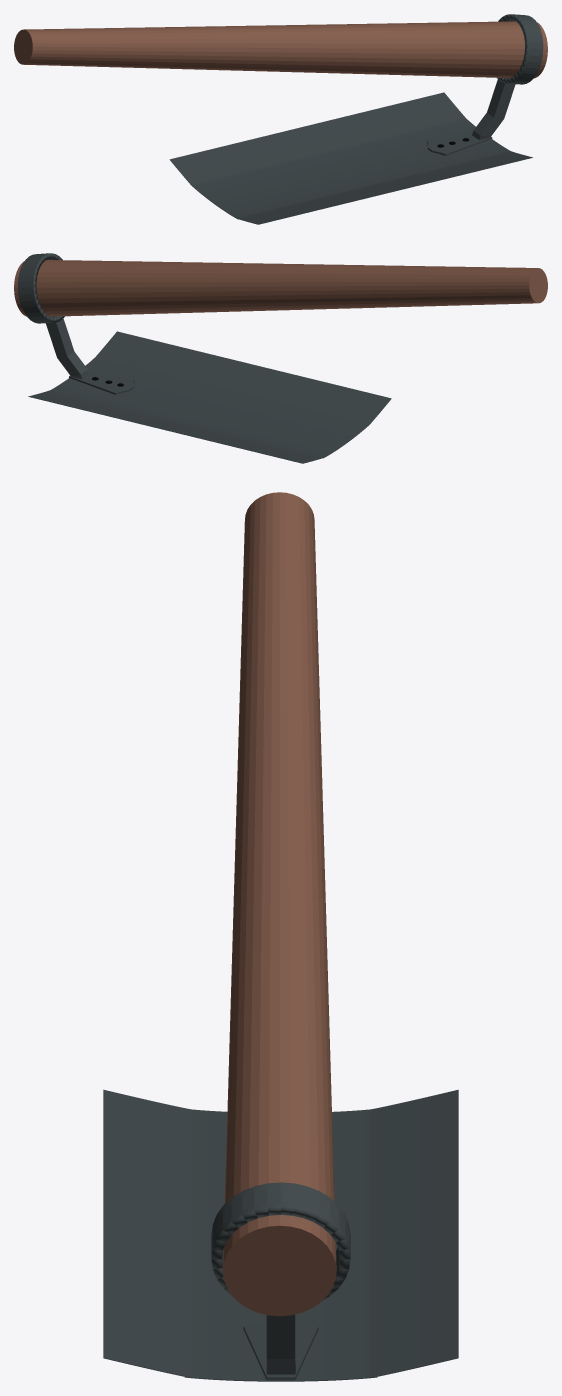
3 views of the same model, one above another, from view 1: azimuth 30°, elevation 25°; view 2: azimuth 150°, elevation 25°; view 3: azimuth 270°, elevation 25° (orthographic). The views are drawn at different scales.
Parts seen in each view (by area): view 1: Cylinder; view 2: Cylinder; view 3: Cylinder.
Part boxes in pixels (left/top/right/bottom): Cylinder: left=14, top=14, right=547, bottom=224; Cylinder: left=14, top=253, right=547, bottom=463; Cylinder: left=103, top=492, right=458, bottom=1381.
Size of the model in its own units: 4.35 by 1.76 by 1.29.
